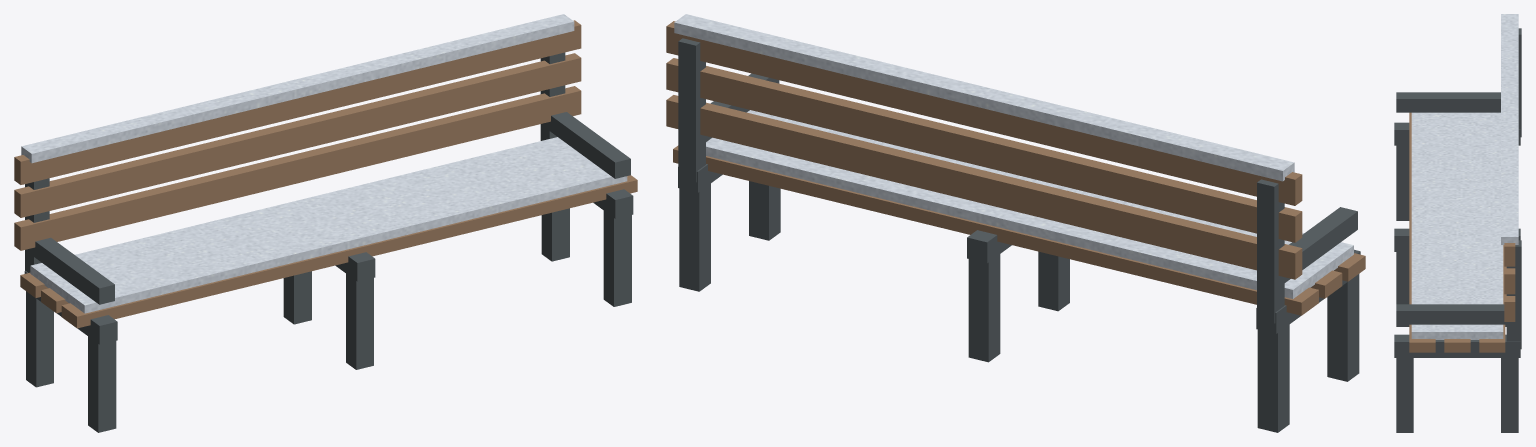
Rendered from nyc_park_bench.glb.
3 renders of one model, left to right at view 1: azimuth 30°, elevation 25°; view 2: azimuth 150°, elevation 25°; view 3: azimuth 270°, elevation 25°, orthographic. The views are drawn at different scales.
Visible parts, largest first — view 1: nyc_park_bench.glb; view 2: nyc_park_bench.glb; view 3: nyc_park_bench.glb.
Part boxes in pixels (box(x1,y1,x2,y2)): nyc_park_bench.glb: box(14, 14, 637, 432); nyc_park_bench.glb: box(666, 14, 1365, 432); nyc_park_bench.glb: box(1394, 14, 1521, 432).
Size of the model in its own units: 2.5 by 1 by 0.585.
3 materials, 1 textured.
